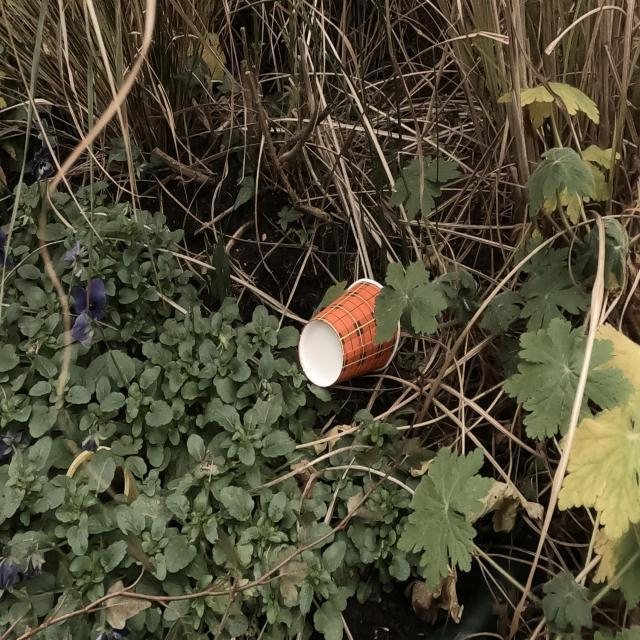Cup: (290, 272, 407, 380)
